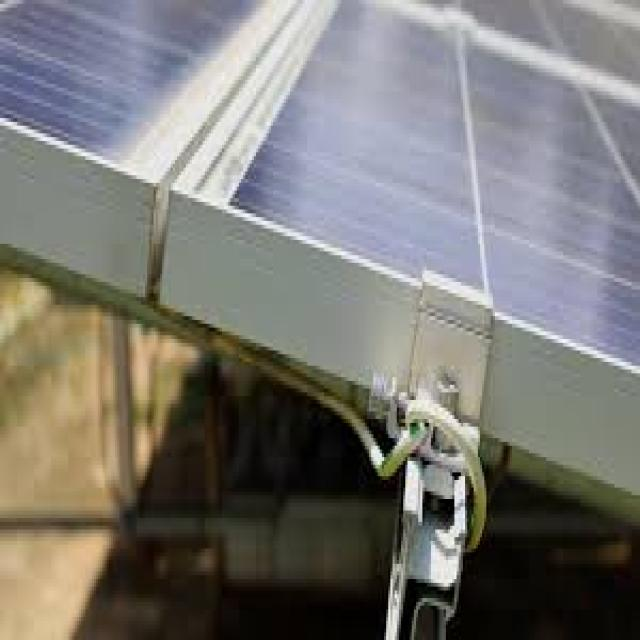clean-solar-panel: (1, 0, 640, 365)
